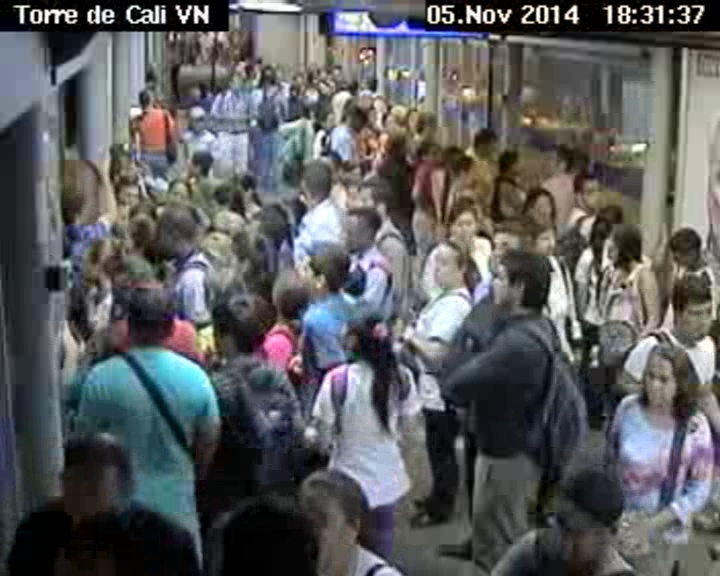person: (192, 490, 327, 576), (521, 468, 626, 569), (47, 432, 147, 537), (296, 465, 385, 574), (485, 244, 554, 326), (205, 293, 280, 357), (638, 343, 698, 415), (666, 271, 716, 343), (125, 289, 181, 350), (294, 244, 353, 301), (332, 312, 394, 365), (149, 204, 202, 261), (426, 236, 476, 293), (75, 237, 126, 289), (244, 203, 296, 251), (340, 206, 388, 250), (608, 221, 649, 271), (589, 200, 631, 245), (298, 157, 337, 205), (669, 224, 710, 269), (523, 218, 568, 258), (568, 168, 603, 217), (352, 175, 392, 217), (229, 166, 264, 208), (482, 219, 525, 250), (525, 186, 559, 221), (383, 126, 415, 160), (450, 202, 479, 239), (496, 147, 528, 179), (448, 155, 478, 189), (113, 173, 141, 207), (165, 175, 194, 207), (187, 148, 216, 177), (473, 129, 500, 158), (417, 141, 444, 168), (344, 101, 366, 132), (185, 107, 210, 130), (310, 108, 340, 127), (286, 79, 305, 100), (227, 72, 245, 93), (135, 92, 158, 108), (258, 70, 278, 86)
